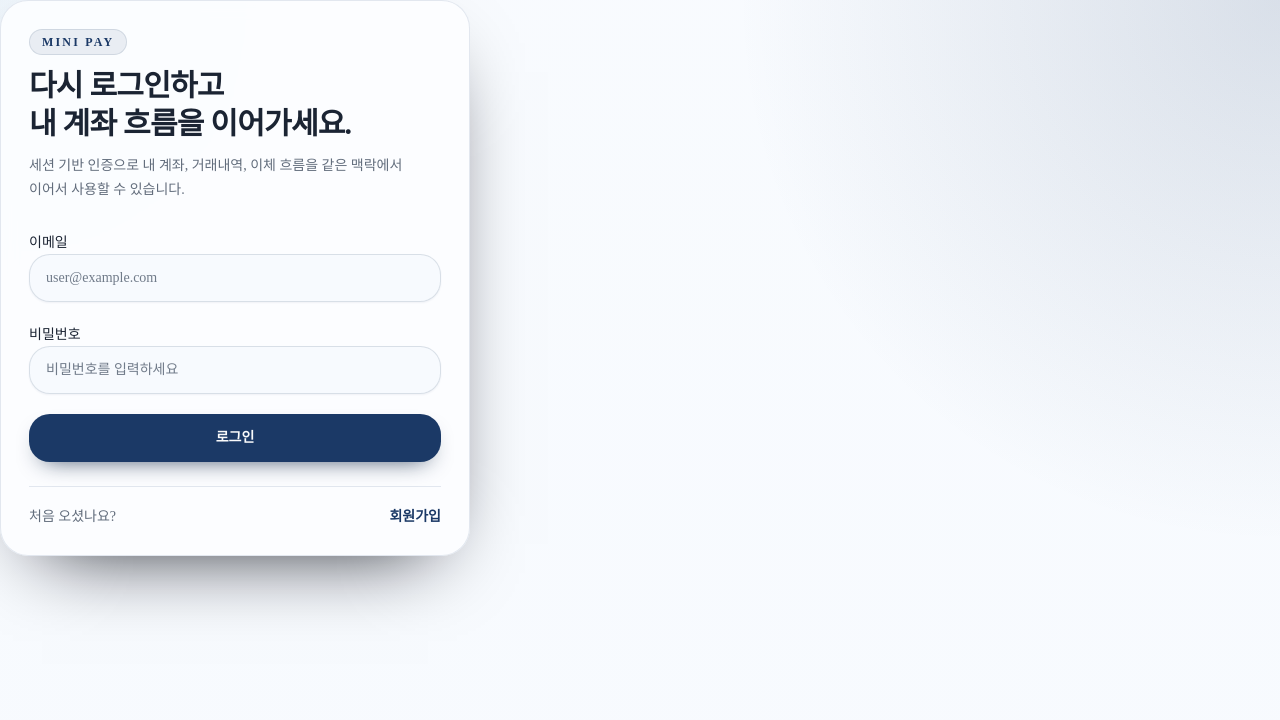
LoginForm › 잘못된 이메일을 입력한 뒤 포커스를 벗어나면 검증 에러를 보여준다
The image size is (1280, 720).
In the field labelled "이메일": (235, 278) 29,254 -> 441,302, type "wrong-email"
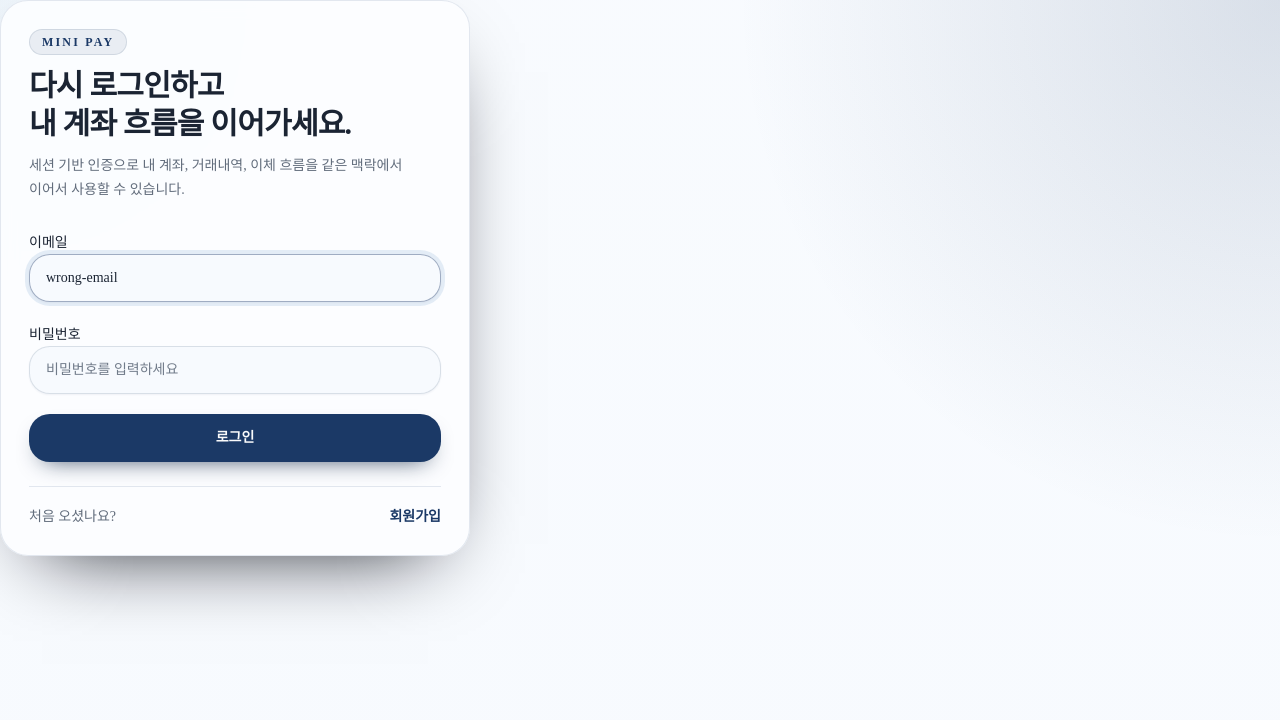
Press Tab
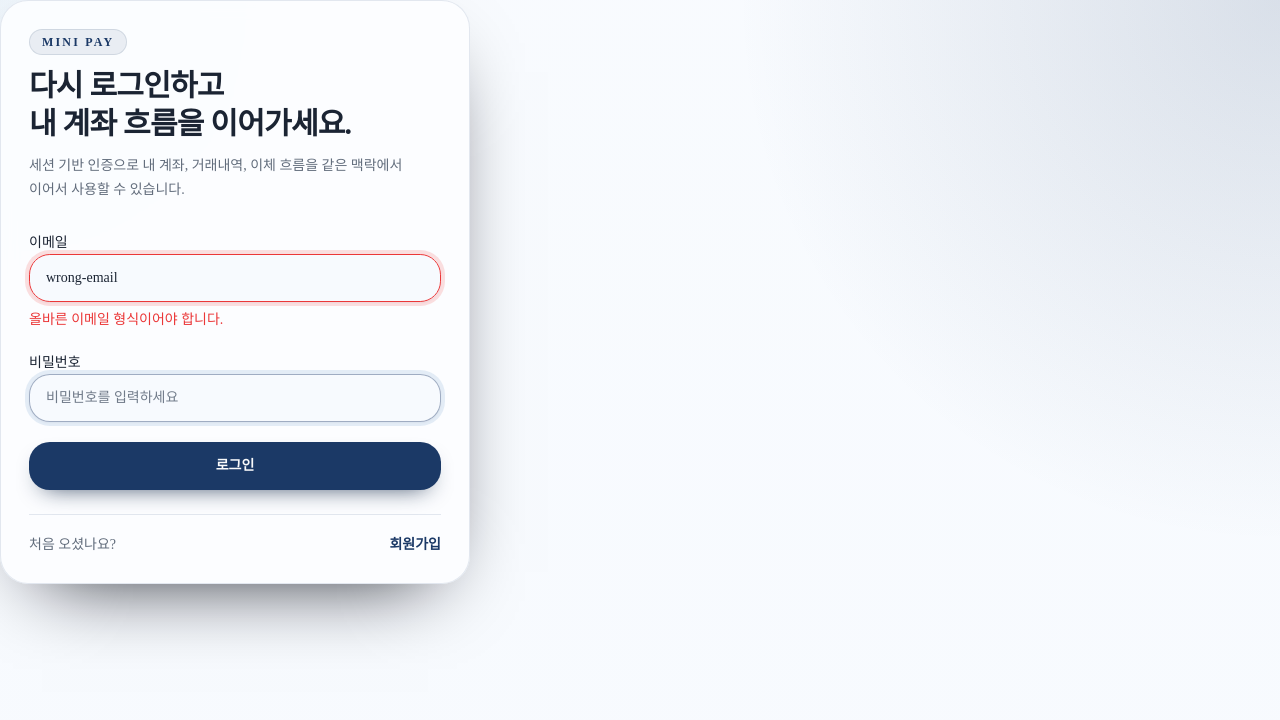
Now the text "올바른 이메일 형식이어야 합니다." is shown, box 29,312 -> 223,327
